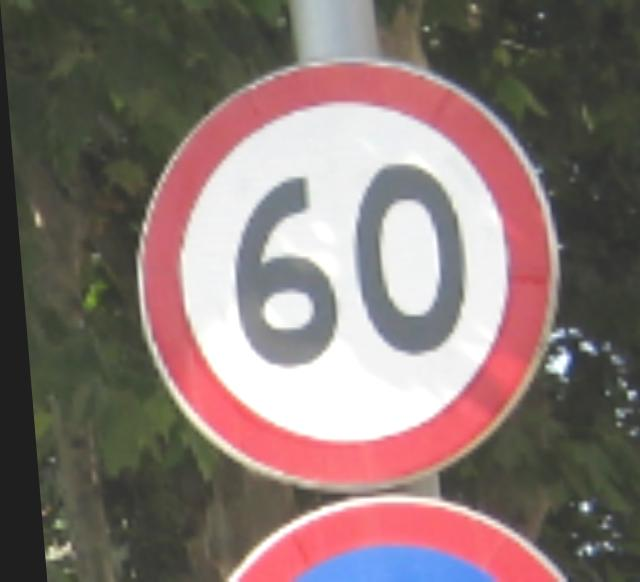limit60: (108, 48, 579, 500)
